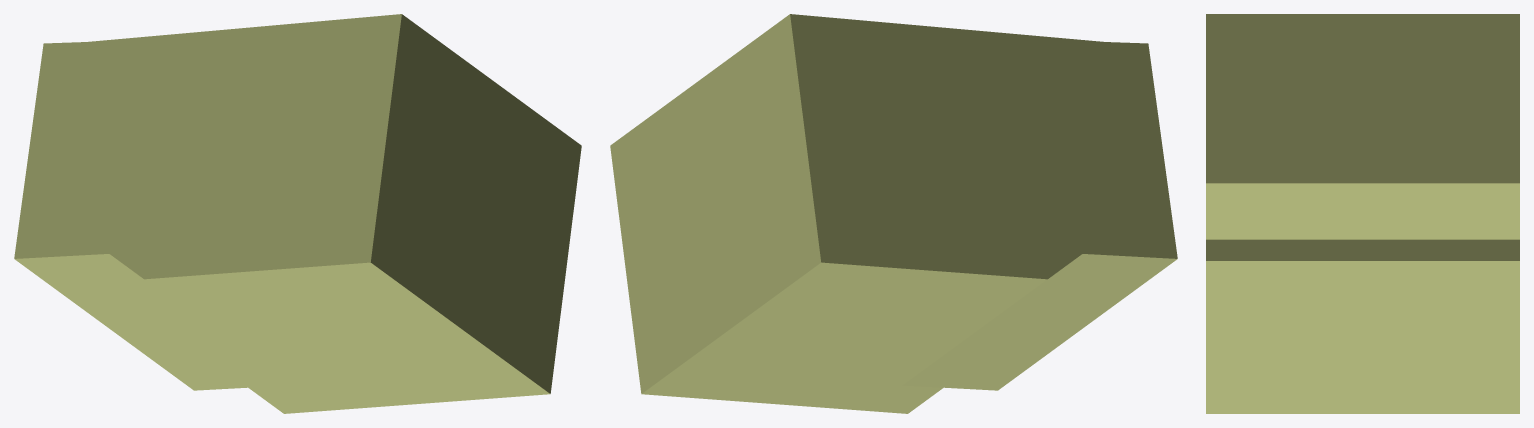
The picture shows the model from 3 angles, left to right: view 1: azimuth 30°, elevation 25°; view 2: azimuth 150°, elevation 25°; view 3: azimuth 270°, elevation 25°; orthographic projection. The views are drawn at different scales.
Parts seen in each view (by area): view 1: 0_0_1_3_2_1_2_1_3_0; view 2: 0_0_1_3_2_1_2_1_3_0; view 3: 0_0_1_3_2_1_2_1_3_0.
Boxes of the visible parts, bbox=[...] form: 0_0_1_3_2_1_2_1_3_0: bbox=[14, 14, 581, 413]; 0_0_1_3_2_1_2_1_3_0: bbox=[610, 14, 1177, 413]; 0_0_1_3_2_1_2_1_3_0: bbox=[1206, 14, 1519, 413].
Size of the model in its own units: 11.2 by 8.25 by 9.
